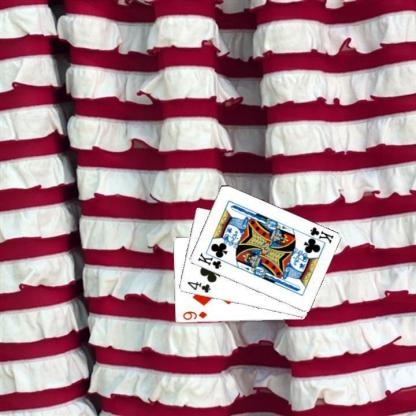4C: (184, 279, 212, 294)
9D: (180, 309, 208, 320)
KC: (302, 224, 335, 245), (195, 250, 227, 270)
